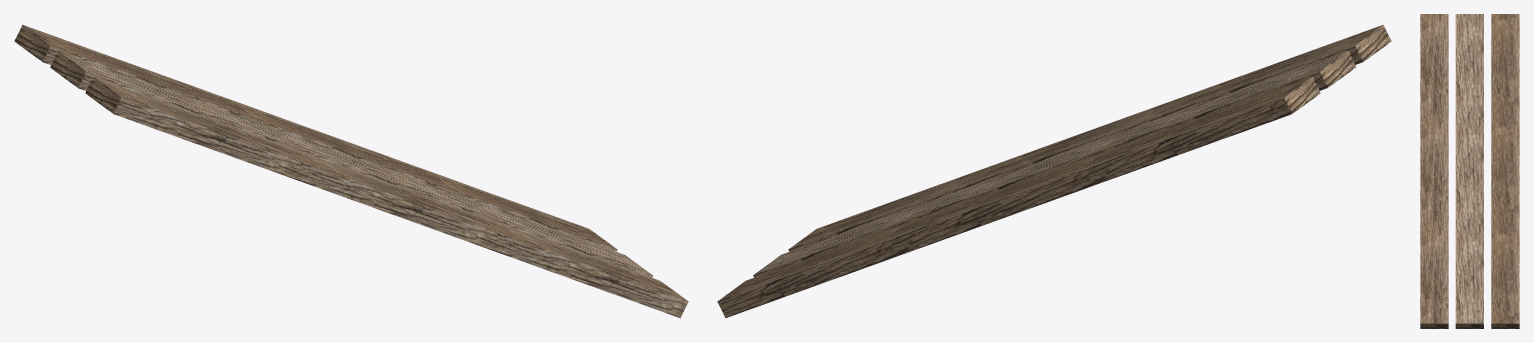
Rendered from Rampa.fbx.
The picture shows the model from 3 angles, left to right: view 1: azimuth 30°, elevation 25°; view 2: azimuth 150°, elevation 25°; view 3: azimuth 270°, elevation 25°; orthographic projection. The views are drawn at different scales.
Parts seen in each view (by area): view 1: Rampa; view 2: Rampa; view 3: Rampa.
Part boxes in pixels (left/top/right/bottom): Rampa: left=14, top=24, right=688, bottom=318; Rampa: left=717, top=24, right=1391, bottom=318; Rampa: left=1420, top=14, right=1519, bottom=328.
Size of the model in its own units: 351 by 209 by 105.
1 material, 1 textured.
